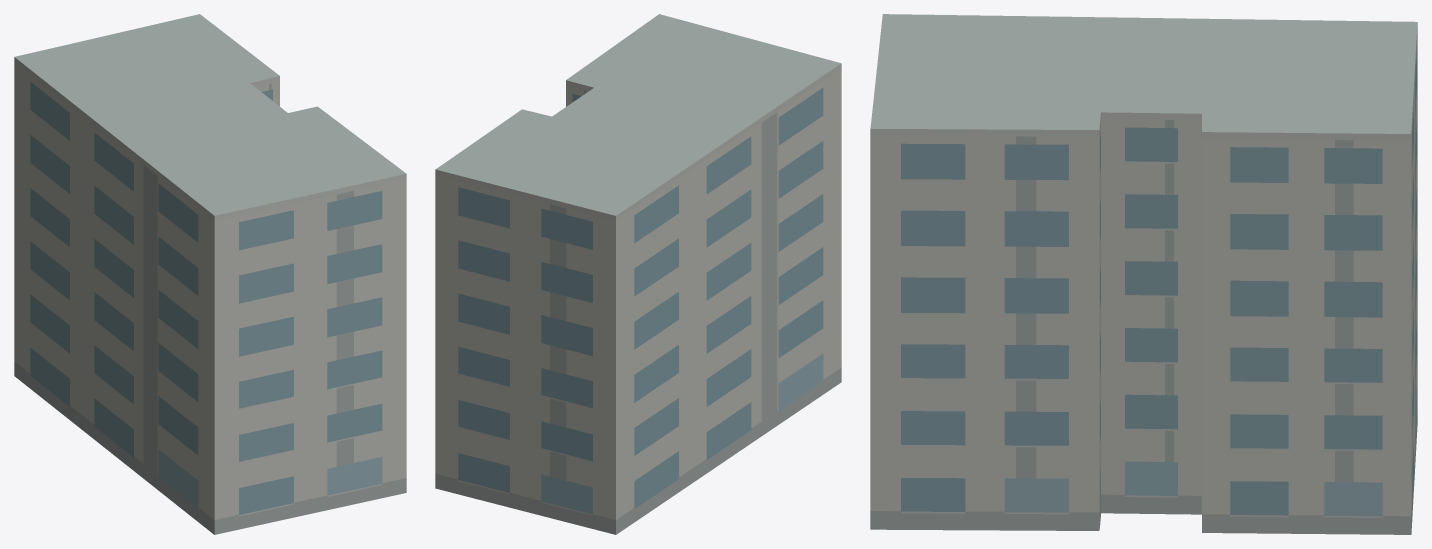
File: survey-upis-32569301.glb
3 renders of one model, left to right at view 1: azimuth 30°, elevation 25°; view 2: azimuth 150°, elevation 25°; view 3: azimuth 270°, elevation 25°, orthographic. The views are drawn at different scales.
Visible parts, largest first — view 1: survey-upis-32569301.tmp; view 2: survey-upis-32569301.tmp; view 3: survey-upis-32569301.tmp.
Part boxes in pixels (bbox=[...]): survey-upis-32569301.tmp: bbox=[14, 14, 406, 534]; survey-upis-32569301.tmp: bbox=[435, 14, 841, 534]; survey-upis-32569301.tmp: bbox=[870, 14, 1417, 534].
Size of the model in its own units: 9.26 by 14.4 by 17.82.
